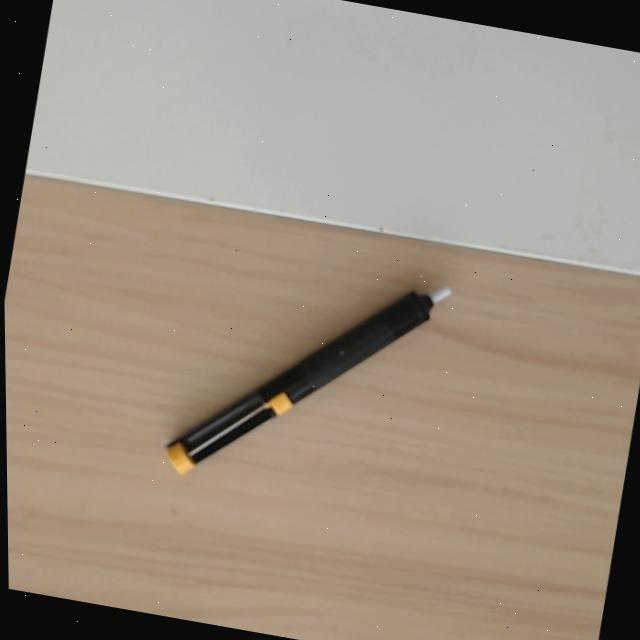Desoldering-Pump: (162, 269, 457, 481)
